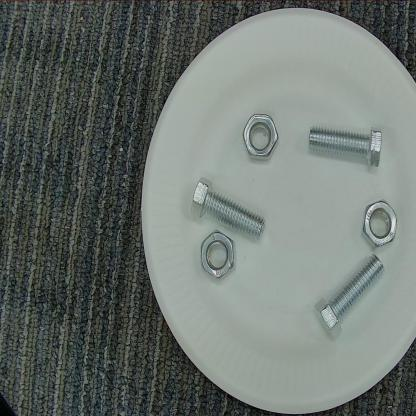FOD: (309, 250, 388, 341), (183, 178, 277, 242), (304, 116, 391, 170), (356, 193, 402, 255), (198, 226, 242, 286), (237, 110, 285, 165)
